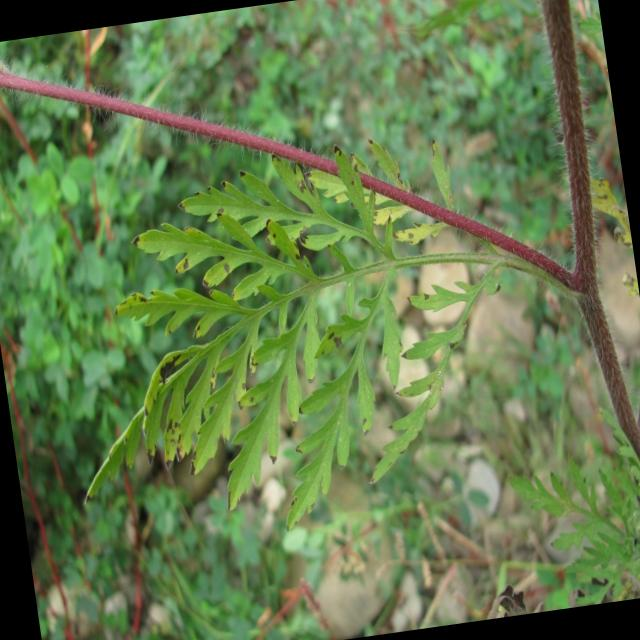ambrosia: (67, 62, 620, 521)
